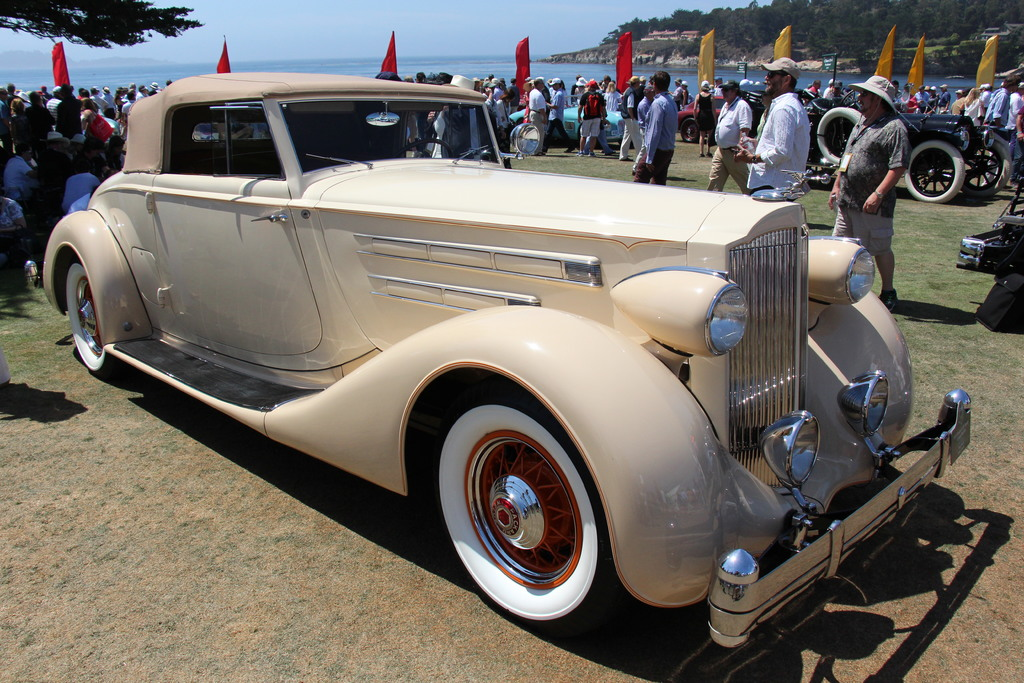Car: (43, 70, 973, 650), (795, 88, 1012, 203)
